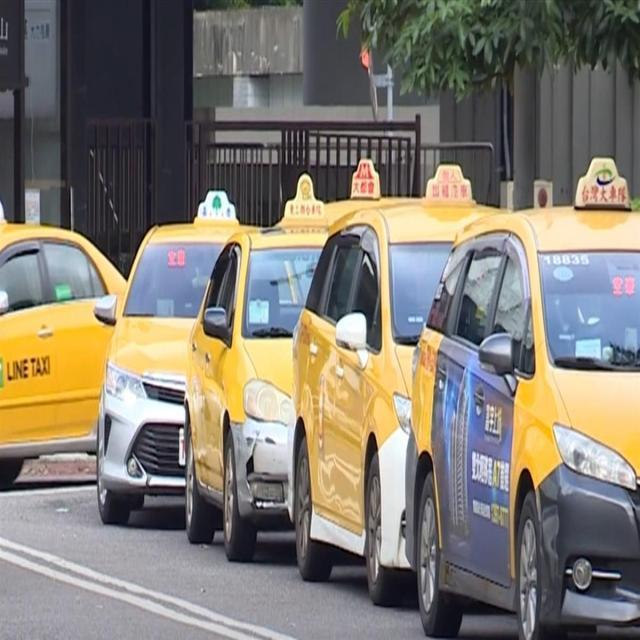taxi: (438, 217, 640, 640), (308, 204, 435, 583), (201, 198, 316, 529), (1, 208, 126, 464), (105, 196, 203, 518)
